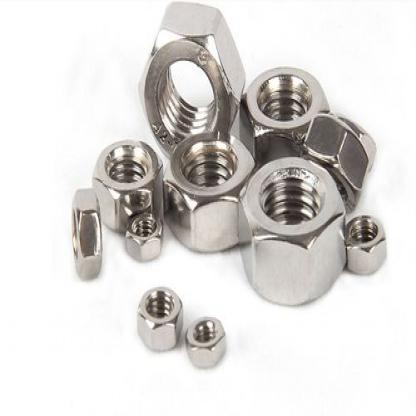FOD: (136, 0, 247, 163), (235, 159, 347, 304), (162, 129, 256, 253), (237, 65, 333, 165), (89, 136, 167, 237), (300, 114, 370, 202), (70, 180, 103, 293), (135, 284, 184, 357), (343, 210, 391, 281), (185, 312, 228, 372), (122, 211, 164, 265)
